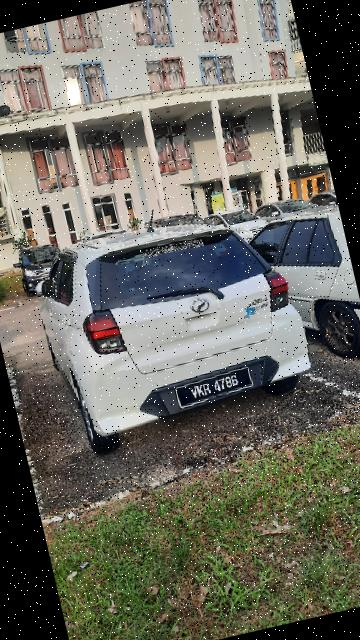License_Plate: (168, 361, 261, 411)
car: (16, 187, 332, 455), (236, 197, 360, 384)
